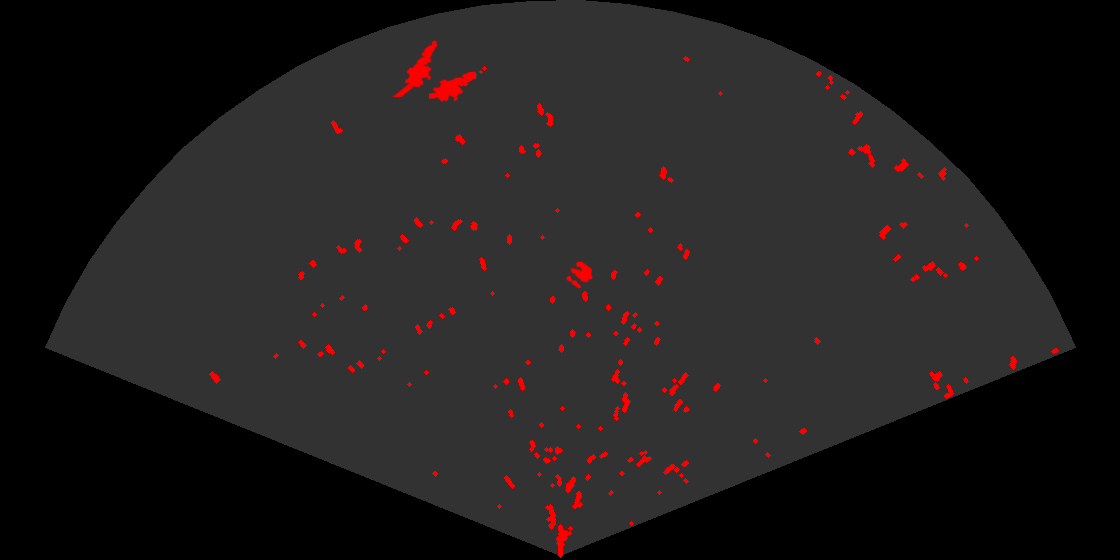ball: (565, 260, 594, 290)
frogman: (392, 39, 439, 97), (429, 69, 485, 104)
